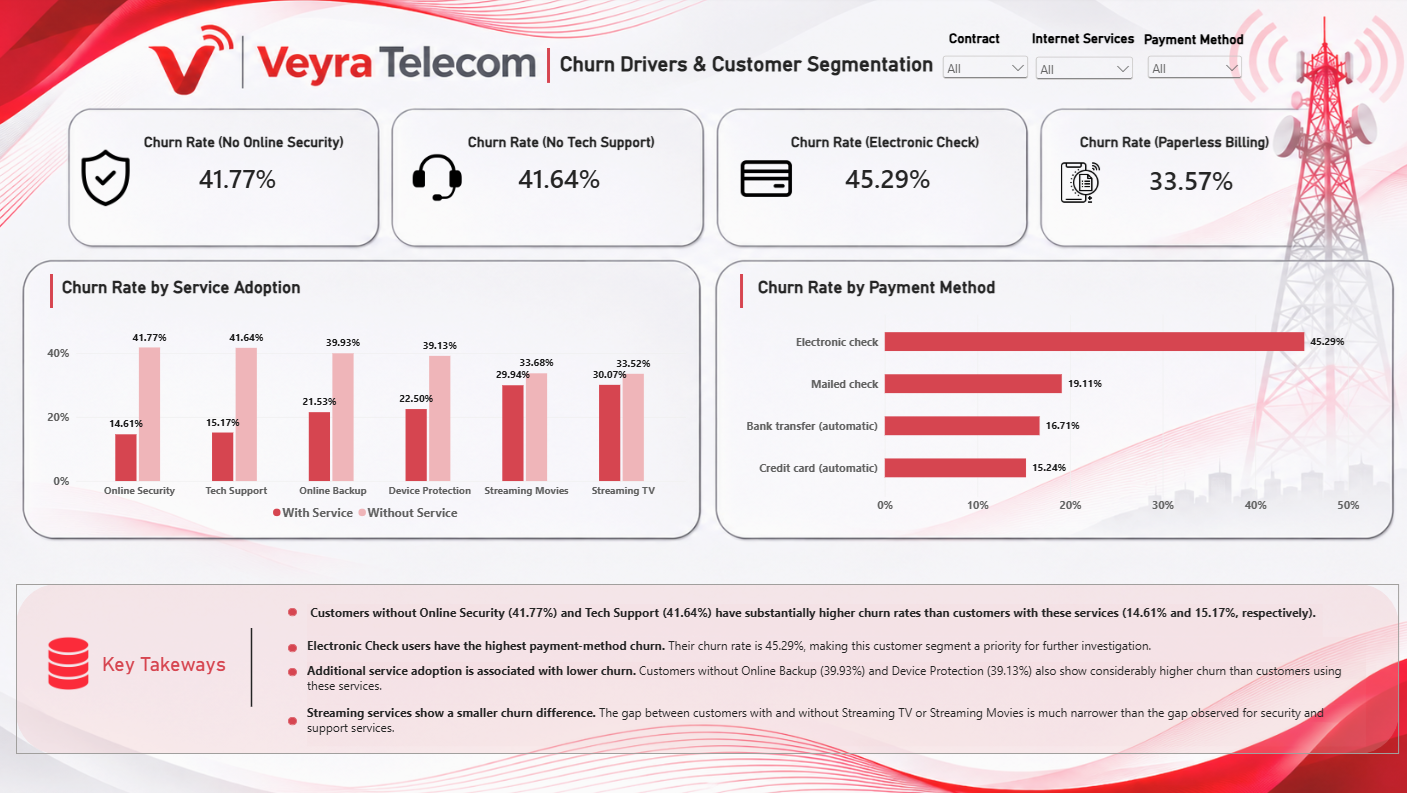

Layout of this report page (visuals, bound fields, positions):
{"tool":"powerbi","page":{"name":"Churn Drivers","canvas":[1920,1080],"ordinal":1},"visuals":[{"type":"textbox","title":"Churn Drivers & Customer Segmentation","box":[759.5,75.4,510.4,36.4],"z":0},{"type":"shape","box":[686.8,70,114.5,47.1],"z":1},{"type":"slicer","fields":{"Values":["WA_Fn-UseC_-Telco-Customer-Churn.Contract"]},"box":[1269.9,75.4,125.2,49.8],"z":2},{"type":"textbox","title":"Contract","box":[1283.3,45.8,92.9,26.9],"z":3},{"type":"slicer","fields":{"Values":["WA_Fn-UseC_-Telco-Customer-Churn.InternetService"]},"box":[1395.1,76.8,141.4,47.1],"z":4},{"type":"textbox","title":"Internet Services","box":[1395.1,45.8,169.7,24.2],"z":5},{"type":"slicer","fields":{"Values":["WA_Fn-UseC_-Telco-Customer-Churn.PaymentMethod"]},"box":[1545.9,75.4,137.4,61.9],"z":6},{"type":"textbox","title":"Payment Method","box":[1545.9,47.1,160.2,22.9],"z":7},{"type":"cardVisual","fields":{"Data":["Measure Table.Churn Rate - No Online Security"]},"box":[231.6,198,187.2,94.3],"z":8},{"type":"textbox","title":"Churn Rate (No Online Security)","box":[199.3,185.8,277.4,31],"z":9},{"type":"image","box":[109.1,202,76.8,86.2],"z":10},{"type":"cardVisual","fields":{"Data":["Measure Table.Churn Rate - No Tech Support"]},"box":[677.4,193.9,162.9,102.3],"z":11},{"type":"textbox","title":"Churn Rate (No Tech Support)","box":[635.6,185.8,261.2,31],"z":12},{"type":"image","box":[552.1,211.4,83.5,66],"z":13},{"type":"cardVisual","fields":{"Data":["Measure Table.Churn Rate (Electronic Check)"]},"box":[1106.9,198,188.5,92.9],"z":14},{"type":"textbox","title":"Churn Rate (Electronic Check)","box":[1070.6,185.8,261.2,31],"z":15},{"type":"image","box":[993.8,211.4,87.5,68.7],"z":16},{"type":"cardVisual","fields":{"Data":["Measure Table.Churn Rate (Paperless Billing)"]},"box":[1536.5,202,146.8,90.2],"z":17},{"type":"textbox","title":"Churn Rate (Paperless Billing)","box":[1459.8,185.8,261.2,31],"z":18},{"type":"image","box":[1423.4,222.2,71.4,57.9],"z":19},{"type":"clusteredColumnChart","fields":{"Category":["Service Comparison.Service"],"Series":["Service Comparison.Adoption Status"],"Y":["Measure Table.Service Adoption Churn Rate"]},"box":[52.5,414.8,892.8,312.4],"z":20},{"type":"textbox","title":"Churn Rate by Service Adoption ","box":[88.9,378.4,350.1,36.4],"z":21},{"type":"shape","box":[40.4,374.4,68.7,45.8],"z":22},{"type":"clusteredBarChart","fields":{"Category":["WA_Fn-UseC_-Telco-Customer-Churn.PaymentMethod"],"Y":["Measure Table.Churn rate"]},"box":[993.8,408,857.8,309.7],"z":23},{"type":"textbox","title":"Churn Rate by Payment Method","box":[1026.1,378.4,350.1,36.4],"z":24},{"type":"shape","box":[969.6,374.4,68.7,45.8],"z":25},{"type":"shape","box":[26.9,791.8,1862.4,228.9],"z":26},{"type":"image","box":[52.5,861.8,90.2,74.1],"z":27},{"type":"textbox","title":"Key Takeways","box":[142.7,883.4,202,41.7],"z":28},{"type":"shape","box":[313.8,851.1,60.6,106.4],"z":29},{"type":"textbox","box":[418.8,818.8,1368.2,44.4],"z":31},{"type":"shape","box":[393.2,824.1,12.1,10.8],"z":32},{"type":"textbox","box":[418.8,863.2,1426.1,56.6],"z":33},{"type":"shape","box":[393.2,872.6,12.1,10.8],"z":34},{"type":"textbox","box":[418.8,896.9,1426.1,56.6],"z":35},{"type":"shape","box":[393.2,904.9,12.1,10.8],"z":36},{"type":"shape","box":[393.2,970.9,12.1,10.8],"z":37},{"type":"textbox","box":[418.8,953.4,1426.1,56.6],"z":38}]}

Visuals, with their boxes in screenshot pixels (x1, y1, x2, y2), scaled from the page's 1920x1080 canvas onto the 1407x793 screenshot:
"Churn Drivers & Customer Segmentation" textbox: {"left": 557, "top": 55, "right": 931, "bottom": 82}
shape: {"left": 503, "top": 51, "right": 587, "bottom": 86}
slicer - WA_Fn-UseC_-Telco-Customer-Churn.Contract: {"left": 931, "top": 55, "right": 1022, "bottom": 92}
"Contract" textbox: {"left": 940, "top": 34, "right": 1008, "bottom": 53}
slicer - WA_Fn-UseC_-Telco-Customer-Churn.InternetService: {"left": 1022, "top": 56, "right": 1126, "bottom": 91}
"Internet Services" textbox: {"left": 1022, "top": 34, "right": 1147, "bottom": 51}
slicer - WA_Fn-UseC_-Telco-Customer-Churn.PaymentMethod: {"left": 1133, "top": 55, "right": 1234, "bottom": 101}
"Payment Method" textbox: {"left": 1133, "top": 35, "right": 1250, "bottom": 51}
cardVisual - Measure Table.Churn Rate - No Online Security: {"left": 170, "top": 145, "right": 307, "bottom": 215}
"Churn Rate (No Online Security)" textbox: {"left": 146, "top": 136, "right": 349, "bottom": 159}
image: {"left": 80, "top": 148, "right": 136, "bottom": 212}
cardVisual - Measure Table.Churn Rate - No Tech Support: {"left": 496, "top": 142, "right": 616, "bottom": 217}
"Churn Rate (No Tech Support)" textbox: {"left": 466, "top": 136, "right": 657, "bottom": 159}
image: {"left": 405, "top": 155, "right": 466, "bottom": 204}
cardVisual - Measure Table.Churn Rate (Electronic Check): {"left": 811, "top": 145, "right": 949, "bottom": 214}
"Churn Rate (Electronic Check)" textbox: {"left": 785, "top": 136, "right": 976, "bottom": 159}
image: {"left": 728, "top": 155, "right": 792, "bottom": 206}
cardVisual - Measure Table.Churn Rate (Paperless Billing): {"left": 1126, "top": 148, "right": 1234, "bottom": 215}
"Churn Rate (Paperless Billing)" textbox: {"left": 1070, "top": 136, "right": 1261, "bottom": 159}
image: {"left": 1043, "top": 163, "right": 1095, "bottom": 206}
clusteredColumnChart - Service Comparison.Service x Service Comparison.Adoption Status: {"left": 38, "top": 305, "right": 693, "bottom": 534}
"Churn Rate by Service Adoption " textbox: {"left": 65, "top": 278, "right": 322, "bottom": 305}
shape: {"left": 30, "top": 275, "right": 80, "bottom": 309}
clusteredBarChart - WA_Fn-UseC_-Telco-Customer-Churn.PaymentMethod x Measure Table.Churn rate: {"left": 728, "top": 300, "right": 1357, "bottom": 527}
"Churn Rate by Payment Method" textbox: {"left": 752, "top": 278, "right": 1008, "bottom": 305}
shape: {"left": 711, "top": 275, "right": 761, "bottom": 309}
shape: {"left": 20, "top": 581, "right": 1385, "bottom": 749}
image: {"left": 38, "top": 633, "right": 105, "bottom": 687}
"Key Takeways" textbox: {"left": 105, "top": 649, "right": 253, "bottom": 679}
shape: {"left": 230, "top": 625, "right": 274, "bottom": 703}
textbox: {"left": 307, "top": 601, "right": 1310, "bottom": 634}
shape: {"left": 288, "top": 605, "right": 297, "bottom": 613}
textbox: {"left": 307, "top": 634, "right": 1352, "bottom": 675}
shape: {"left": 288, "top": 641, "right": 297, "bottom": 649}
textbox: {"left": 307, "top": 659, "right": 1352, "bottom": 700}
shape: {"left": 288, "top": 664, "right": 297, "bottom": 672}
shape: {"left": 288, "top": 713, "right": 297, "bottom": 721}
textbox: {"left": 307, "top": 700, "right": 1352, "bottom": 742}
